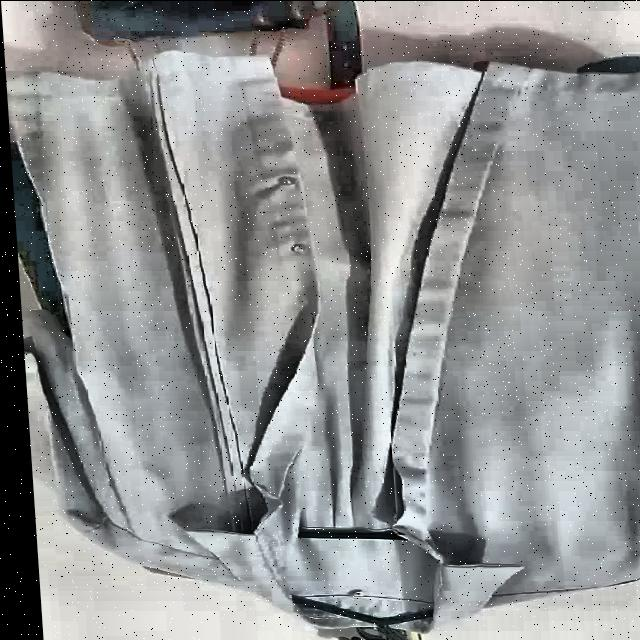clothes: (2, 26, 640, 640)
